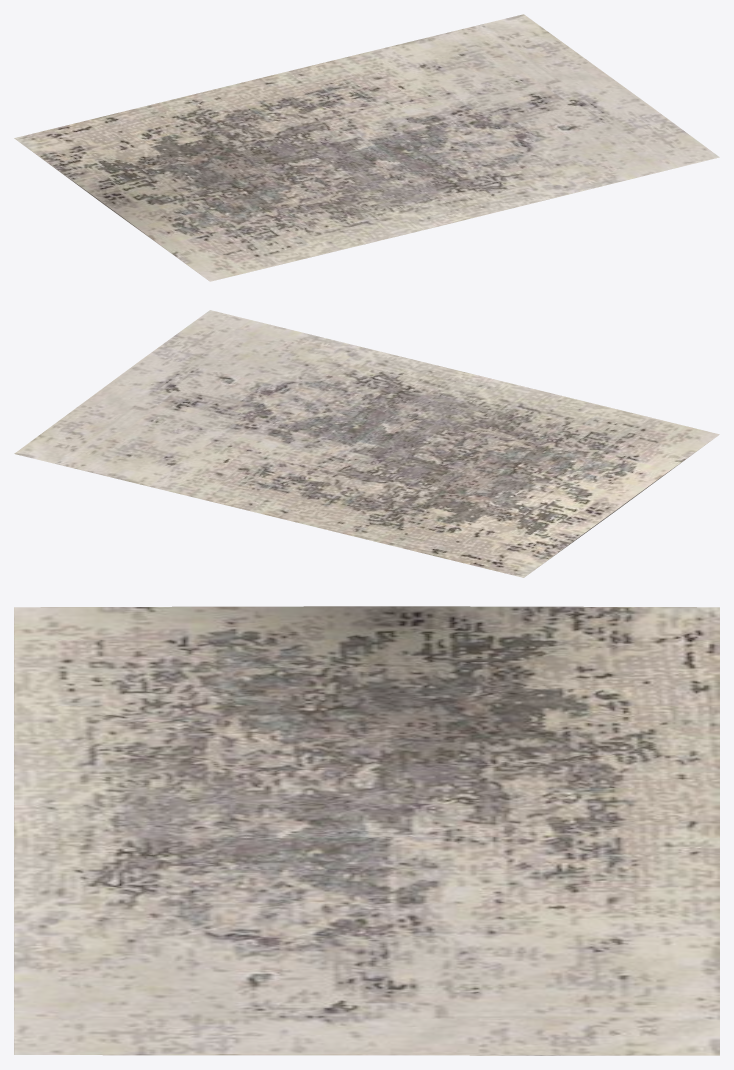
Rendered from Carpet0005.obj.
3 views of the same model, one above another, from view 1: azimuth 30°, elevation 25°; view 2: azimuth 150°, elevation 25°; view 3: azimuth 270°, elevation 25° (orthographic). The views are drawn at different scales.
Size of the model in its own units: 3 by 0.006 by 2.
1 material, 1 textured.
